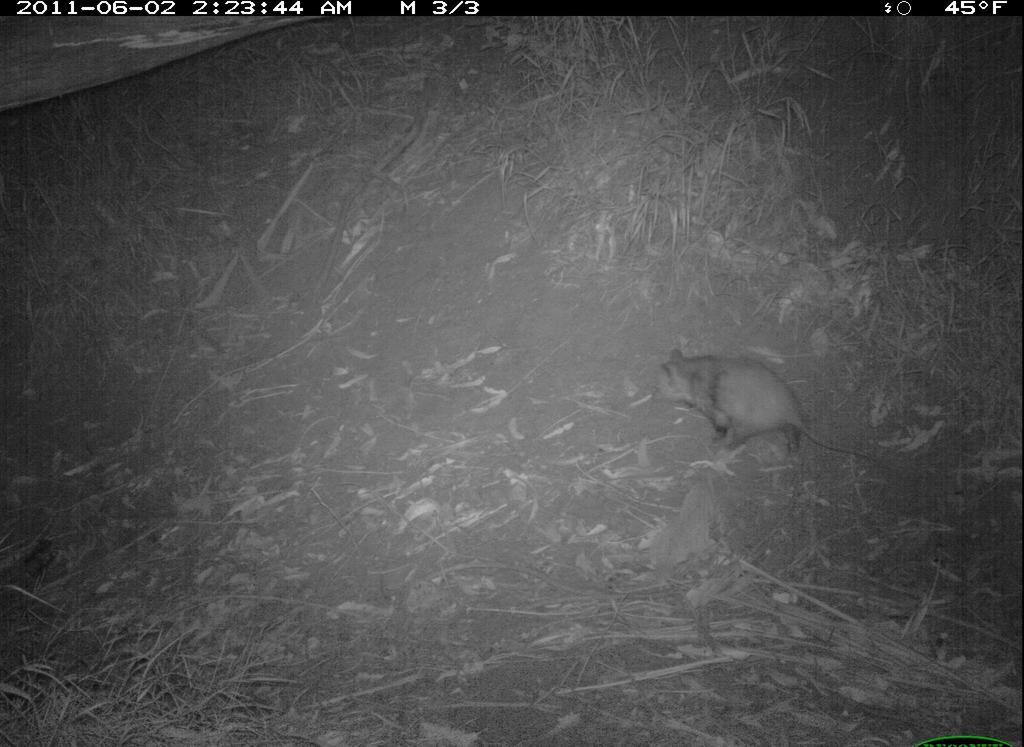opossum: (651, 336, 890, 477)
